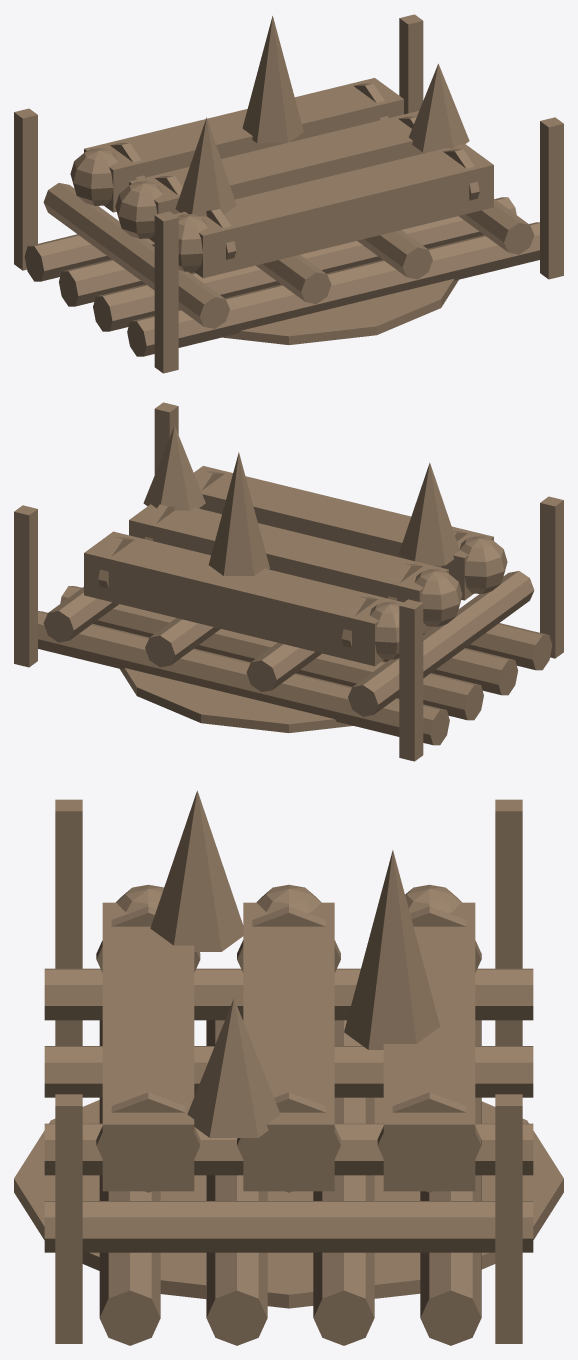
File: aldrich_mass_pyre.fbx
3 views of the same model, one above another, from view 1: azimuth 30°, elevation 25°; view 2: azimuth 150°, elevation 25°; view 3: azimuth 270°, elevation 25° (orthographic). The views are drawn at different scales.
Parts seen in each view (by area): view 1: aldrich_mass_pyre; view 2: aldrich_mass_pyre; view 3: aldrich_mass_pyre.
Boxes of the visible parts, x1,y1,x2,y2 form: aldrich_mass_pyre: (14, 14, 563, 373); aldrich_mass_pyre: (14, 402, 563, 761); aldrich_mass_pyre: (14, 790, 563, 1345).
Bounding box in the file's own units: 2.4 × 1.28 × 1.8.
